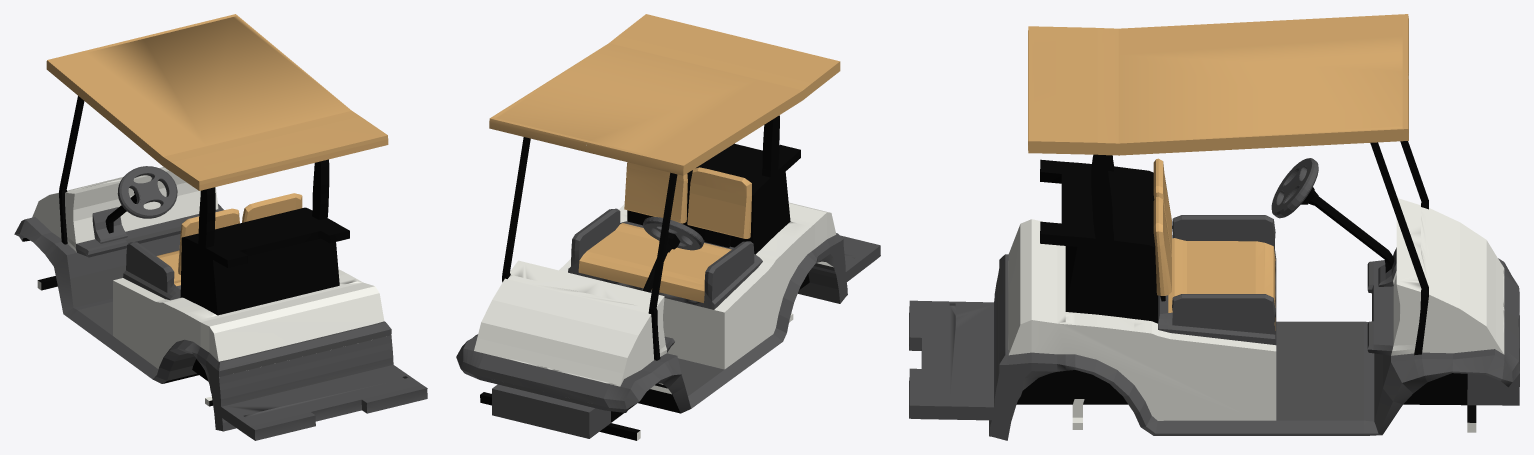
File: Carrito.obj
The picture shows the model from 3 angles, left to right: view 1: azimuth 30°, elevation 25°; view 2: azimuth 150°, elevation 25°; view 3: azimuth 270°, elevation 25°; orthographic projection. The views are drawn at different scales.
Parts seen in each view (by area): view 1: Roda_Pele, Roda_Plastico_Preto, Roda_Plastico_Vomito, Roda_Metal; view 2: Roda_Pele, Roda_Plastico_Vomito, Roda_Plastico_Preto, Roda_Metal, Roda_Material.007; view 3: Roda_Pele, Roda_Plastico_Preto, Roda_Plastico_Vomito, Roda_Metal.
Part boxes in pixels (bbox=[...]): Roda_Pele: bbox=[46, 14, 388, 286]; Roda_Plastico_Preto: bbox=[14, 166, 427, 440]; Roda_Plastico_Vomito: bbox=[32, 167, 384, 369]; Roda_Metal: bbox=[22, 96, 349, 406]; Roda_Pele: bbox=[489, 14, 840, 302]; Roda_Plastico_Vomito: bbox=[474, 202, 836, 386]; Roda_Plastico_Preto: bbox=[456, 208, 880, 438]; Roda_Metal: bbox=[502, 115, 809, 422]; Roda_Material.007: bbox=[480, 392, 640, 440]; Roda_Pele: bbox=[1028, 14, 1408, 330]; Roda_Plastico_Preto: bbox=[909, 158, 1519, 440]; Roda_Plastico_Vomito: bbox=[1008, 198, 1504, 420]; Roda_Metal: bbox=[1016, 141, 1467, 405].
Bounding box in the file's own units: 0.276 × 0.356 × 0.62.
